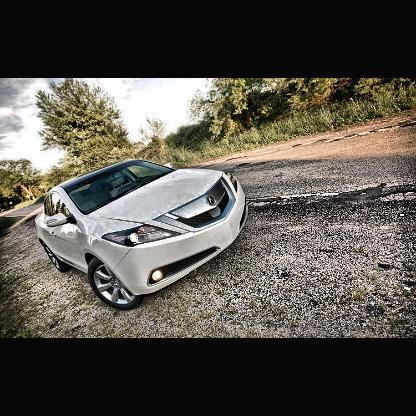Acura ZDX Hatchback 2012: (35, 159, 250, 312)
